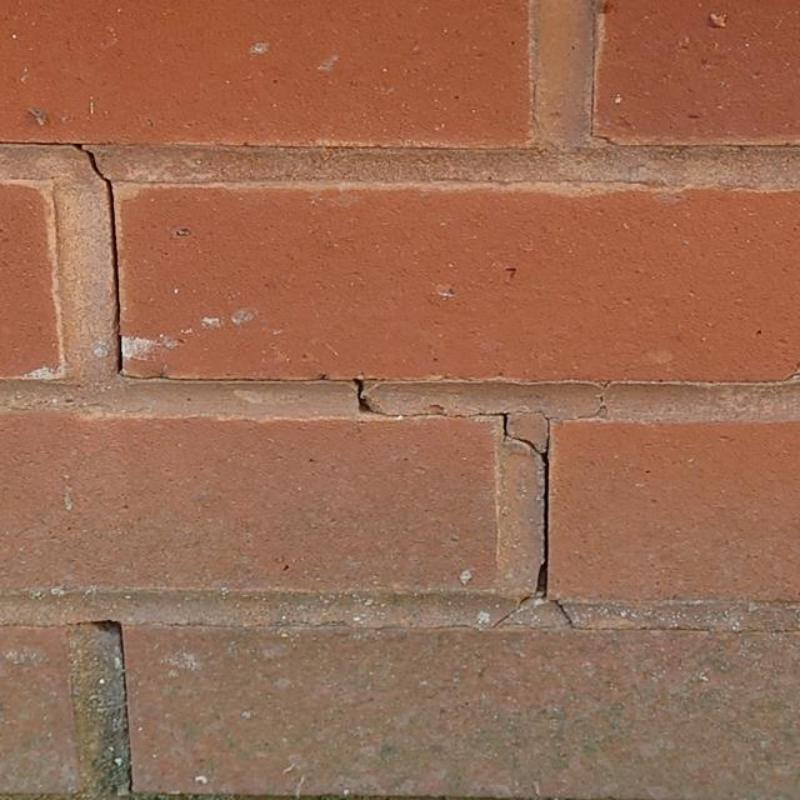pothole: (0, 141, 120, 374), (479, 412, 551, 599), (91, 620, 134, 796), (356, 381, 478, 418), (117, 371, 355, 383), (492, 595, 531, 629), (550, 600, 576, 629)
